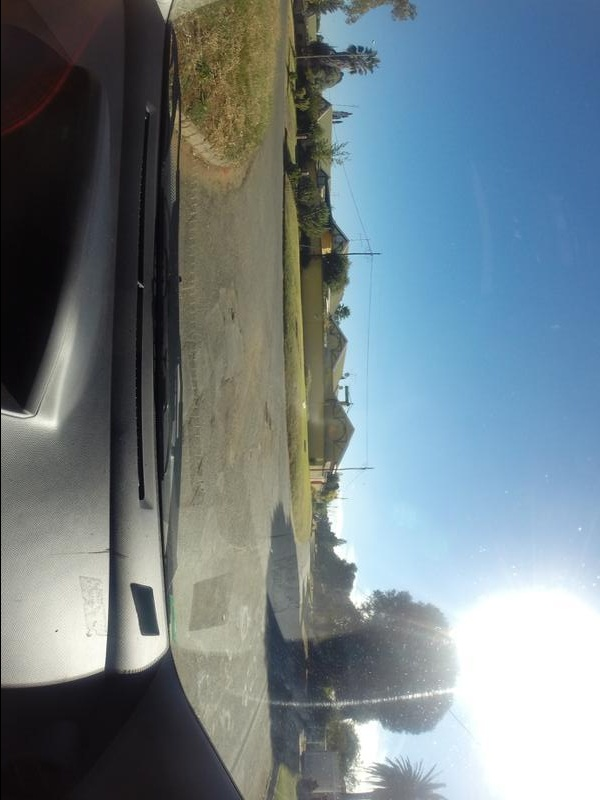pothole: (223, 305, 242, 334), (260, 400, 273, 436), (194, 454, 211, 481)
